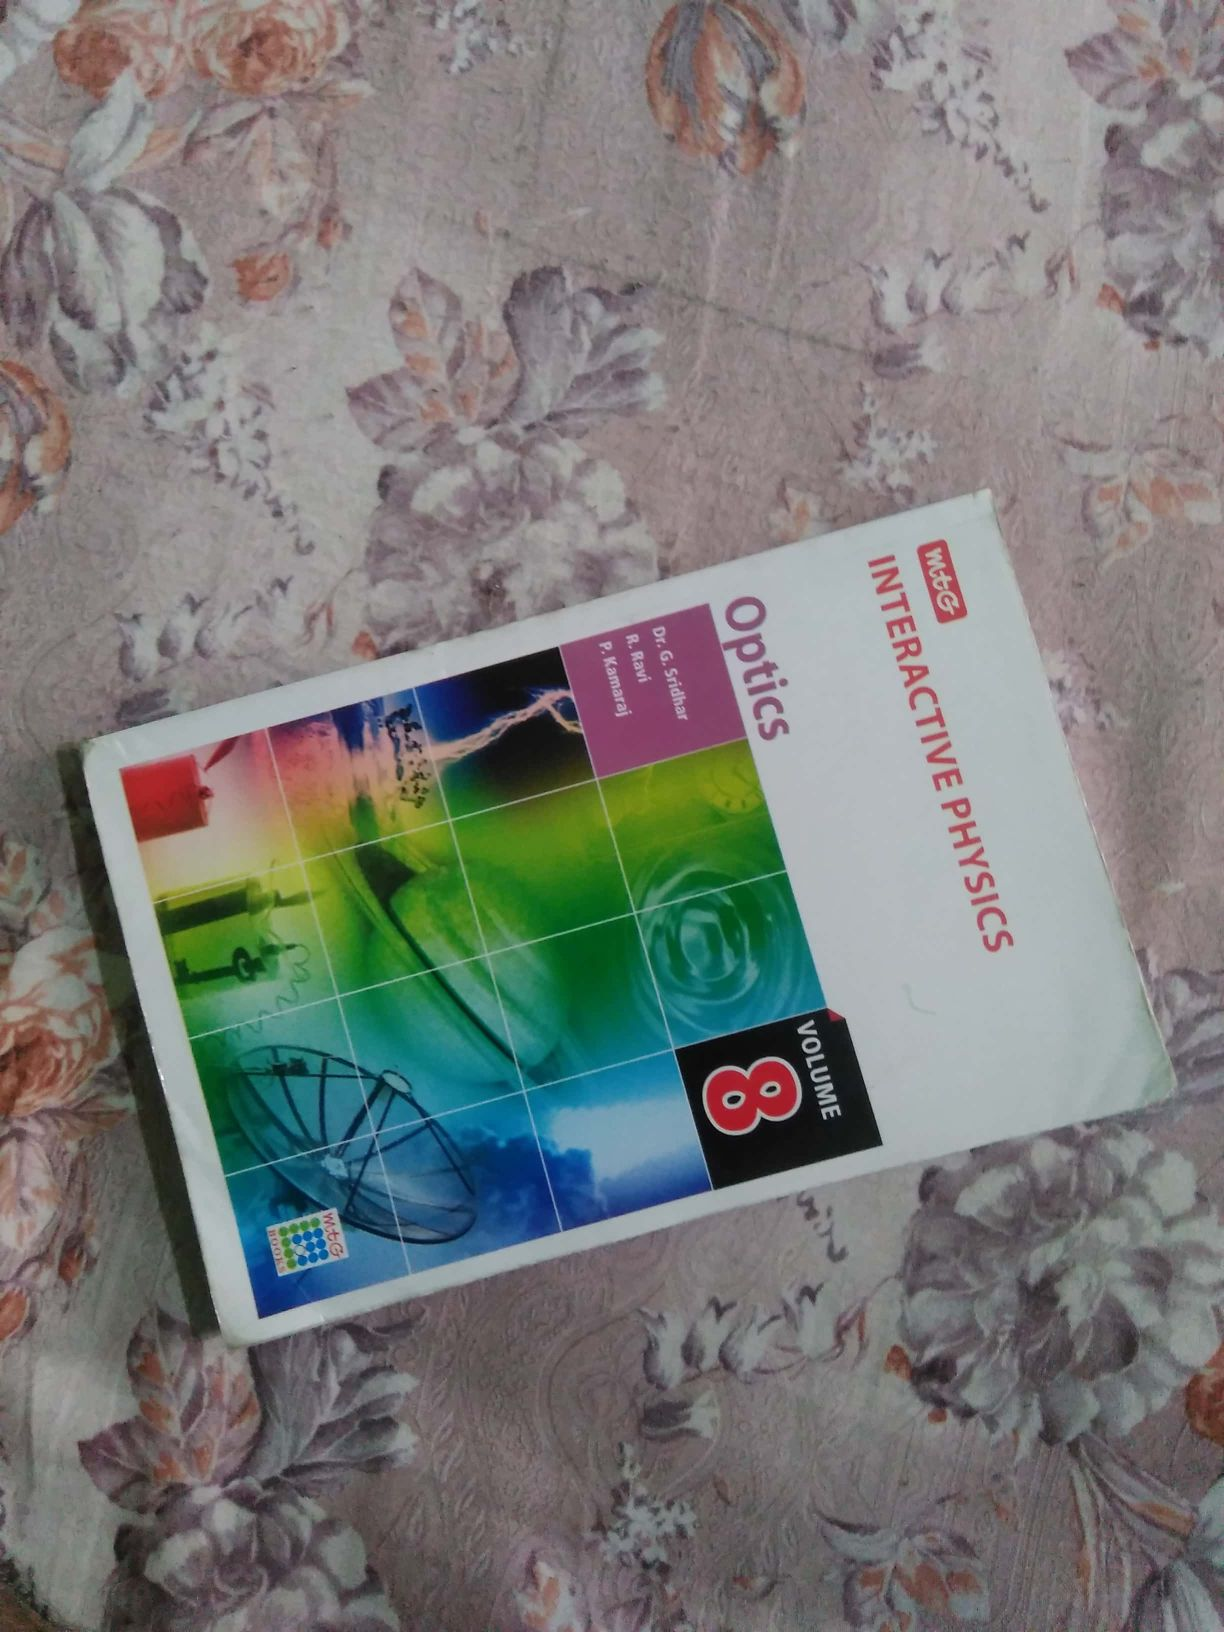optics: (87, 484, 1178, 1322)
